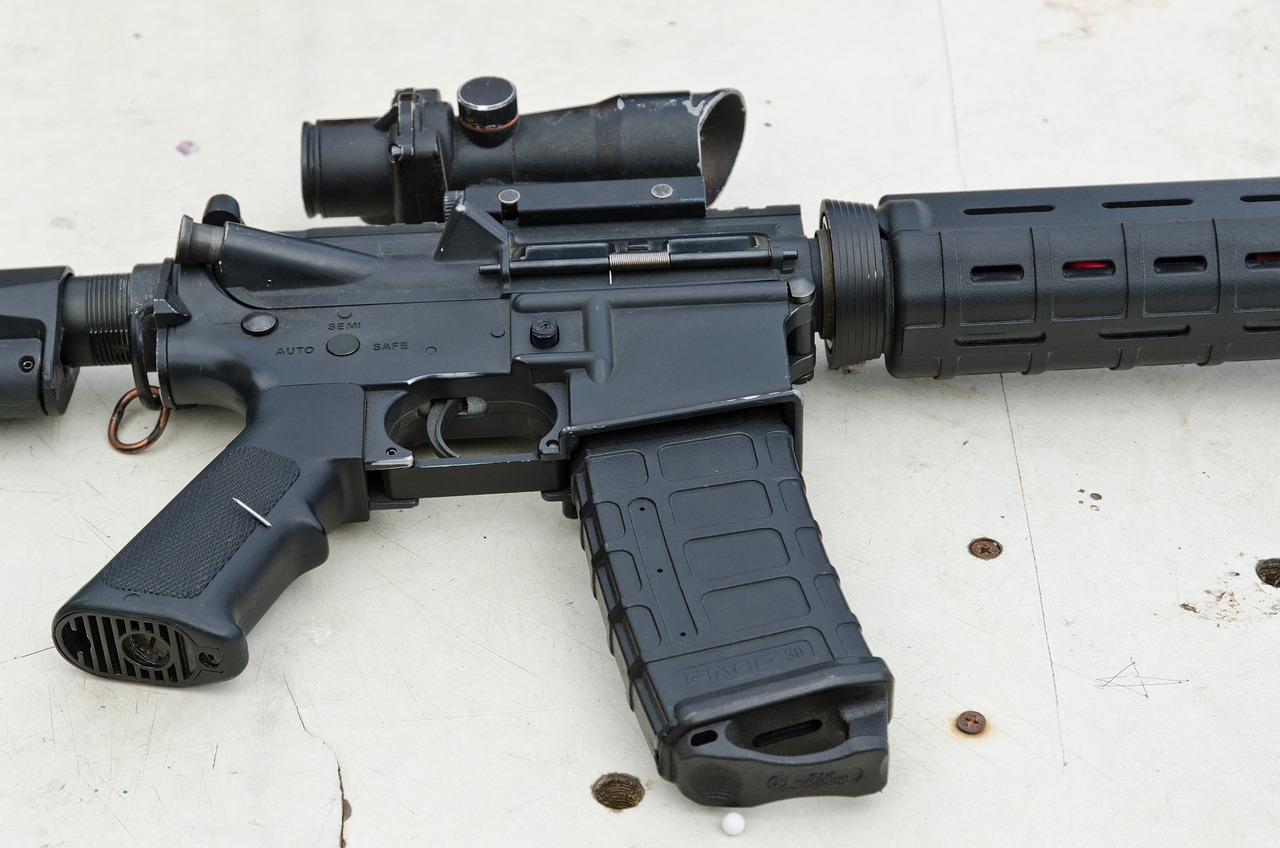gun: (0, 71, 1280, 817)
